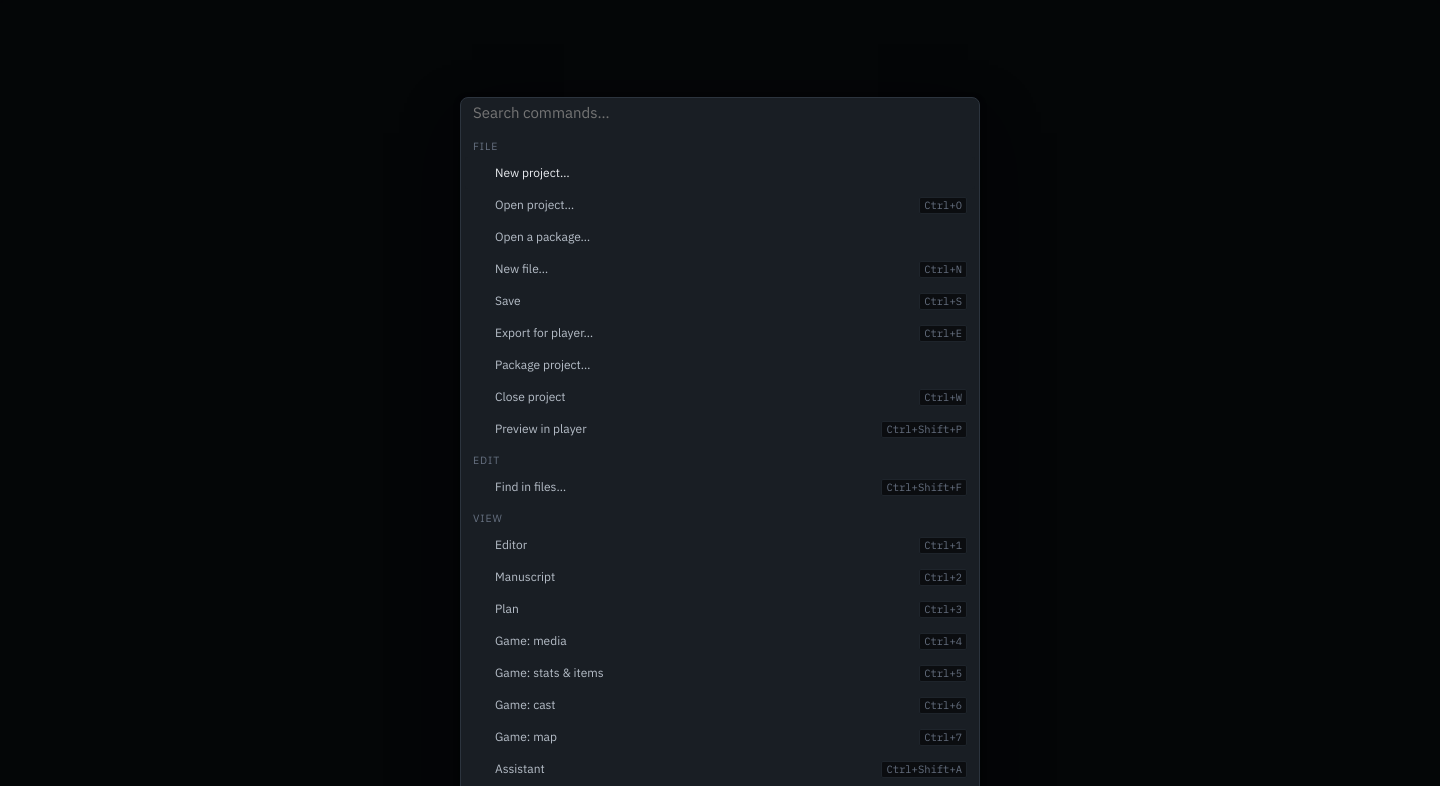
Test: CommandPalette › says so when nothing matches, quoting what was asked for
In the field: (720, 113) [461,98,979,127], type "xyzzy"
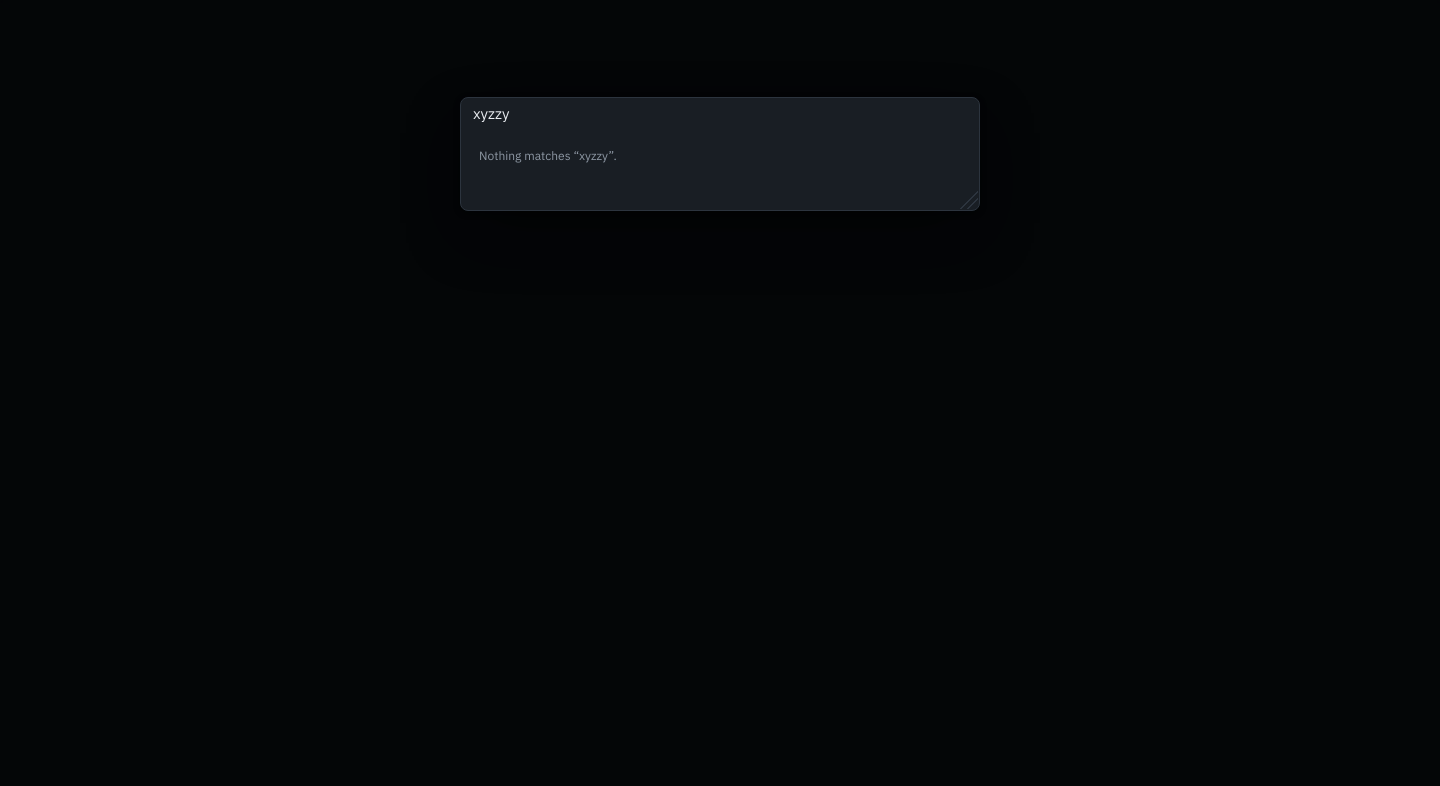
Expected: the text "Nothing matches “xyzzy”." is shown, [479,148,617,163]
